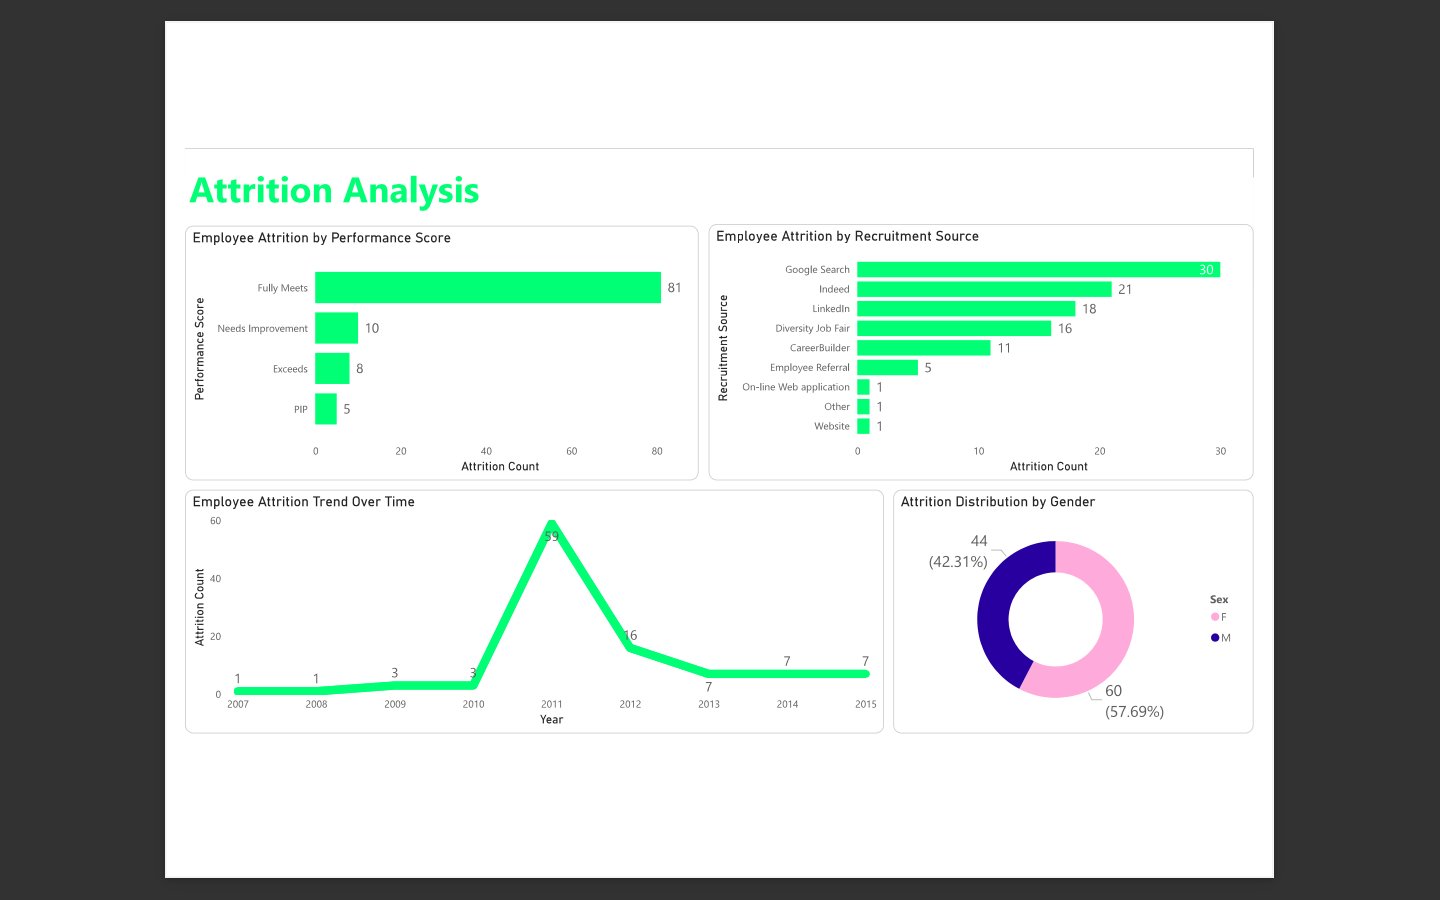

Layout of this report page (visuals, bound fields, positions):
{"tool":"powerbi","page":{"name":"Attrition Analysis","canvas":[1280,720],"ordinal":1},"visuals":[{"type":"textbox","box":[0,13.3,866.7,78.3],"z":0},{"type":"clusteredBarChart","title":"Employee Attrition by Performance Score","fields":{"Category":["HRDataset_v14.PerformanceScore"],"Y":["HRDataset_v14.Attrition Count"]},"box":[0,91.7,615,305],"z":1000},{"type":"clusteredBarChart","title":"Employee Attrition by Recruitment Source","fields":{"Category":["HRDataset_v14.RecruitmentSource"],"Y":["HRDataset_v14.Attrition Count"]},"box":[626.7,90,653.3,306.7],"z":2000},{"type":"lineChart","title":"Employee Attrition Trend Over Time","fields":{"Category":["HRDataset_v14.DateofHire.Variation.Date Hierarchy.Year","HRDataset_v14.DateofHire.Variation.Date Hierarchy.Quarter","HRDataset_v14.DateofHire.Variation.Date Hierarchy.Month","HRDataset_v14.DateofHire.Variation.Date Hierarchy.Day"],"Y":["HRDataset_v14.Attrition Count"]},"box":[0,408.3,836.7,291.7],"z":3000},{"type":"donutChart","title":"Attrition Distribution by Gender","fields":{"Category":["HRDataset_v14.Sex"],"Y":["HRDataset_v14.Attrition Count"]},"box":[848.3,408.3,431.7,291.7],"z":4000}]}

Visuals, with their boxes on the page's 1280x720 design canvas (x1, y1, x2, y2). These are canvas units, not pixel positions in the 1440x900 screenshot, which may show the page scaled, cropped or inside an application window:
textbox: rect(0, 13, 867, 92)
"Employee Attrition by Performance Score" clusteredBarChart: rect(0, 92, 615, 397)
"Employee Attrition by Recruitment Source" clusteredBarChart: rect(627, 90, 1280, 397)
"Employee Attrition Trend Over Time" lineChart: rect(0, 408, 837, 700)
"Attrition Distribution by Gender" donutChart: rect(848, 408, 1280, 700)
